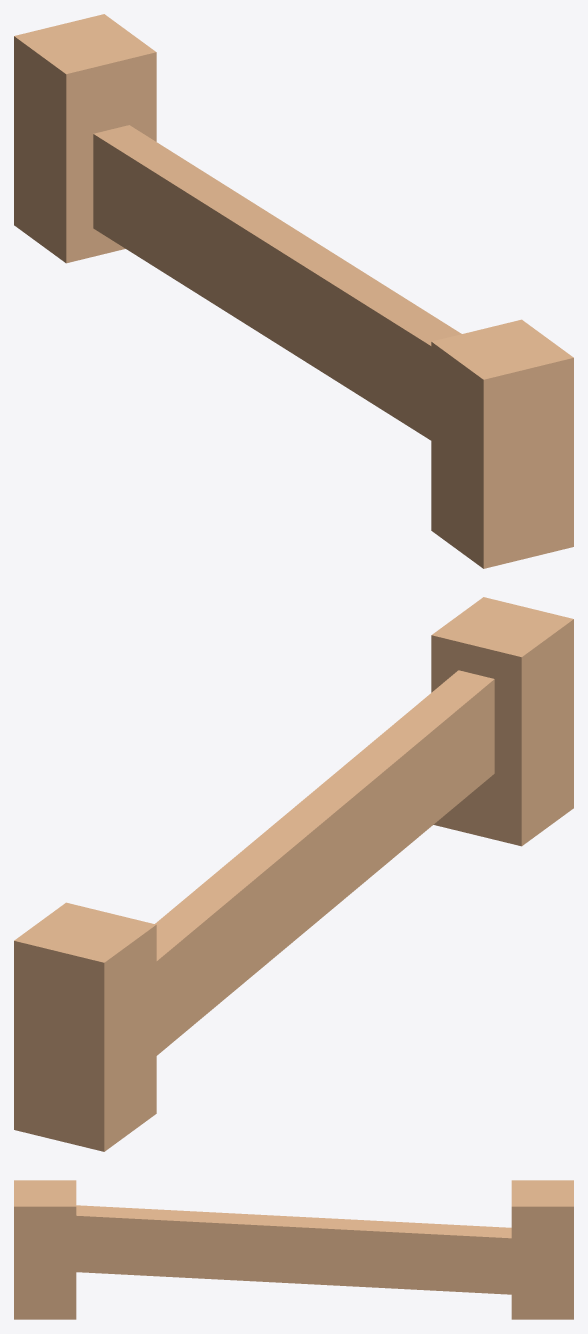
Rendered from fenceLowBroken.glb.
The picture shows the model from 3 angles, top to bottom: view 1: azimuth 30°, elevation 25°; view 2: azimuth 150°, elevation 25°; view 3: azimuth 270°, elevation 25°; orthographic projection. The views are drawn at different scales.
Parts seen in each view (by area): view 1: fenceLowBroken(Clone); view 2: fenceLowBroken(Clone); view 3: fenceLowBroken(Clone).
Part boxes in pixels (box(x1,y1,x2,y2)): fenceLowBroken(Clone): box(14, 14, 573, 568); fenceLowBroken(Clone): box(14, 597, 573, 1151); fenceLowBroken(Clone): box(14, 1180, 573, 1319).
Bounding box in the file's own units: 0.1 × 0.2 × 0.9.
